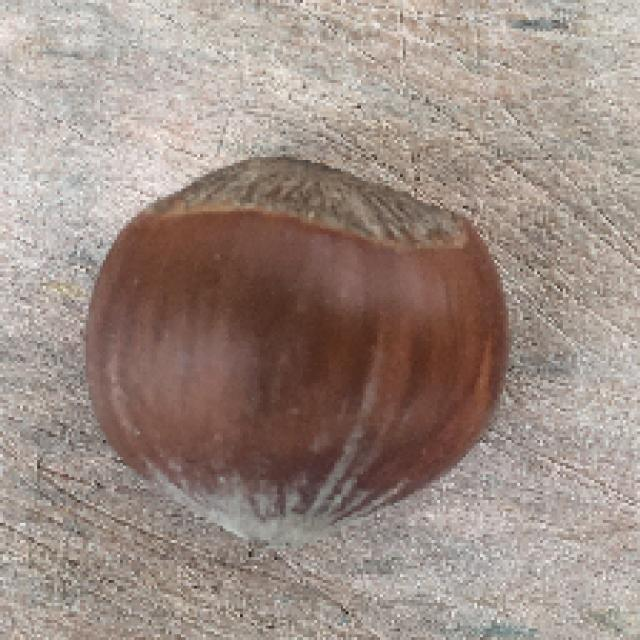damagedHazelnut: (81, 146, 514, 543)
